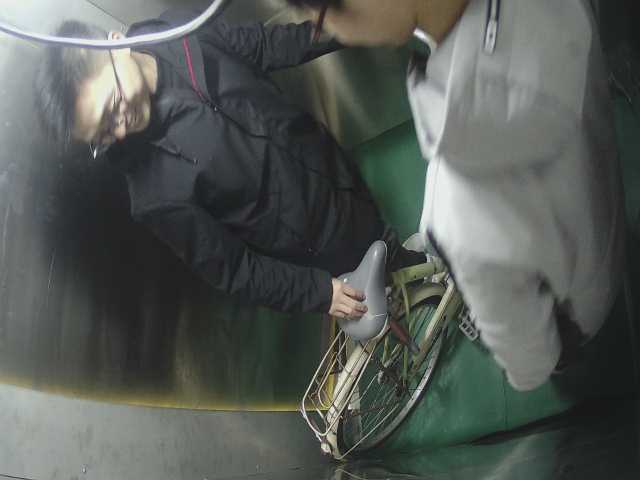bicycle: (291, 237, 486, 463)
person: (306, 1, 621, 410), (29, 13, 450, 316)
